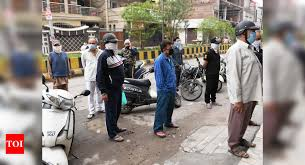mask: (238, 21, 255, 44), (159, 38, 174, 56), (104, 34, 119, 51), (207, 37, 222, 54), (87, 37, 98, 51), (53, 39, 63, 53), (174, 34, 182, 48), (123, 39, 132, 49)
